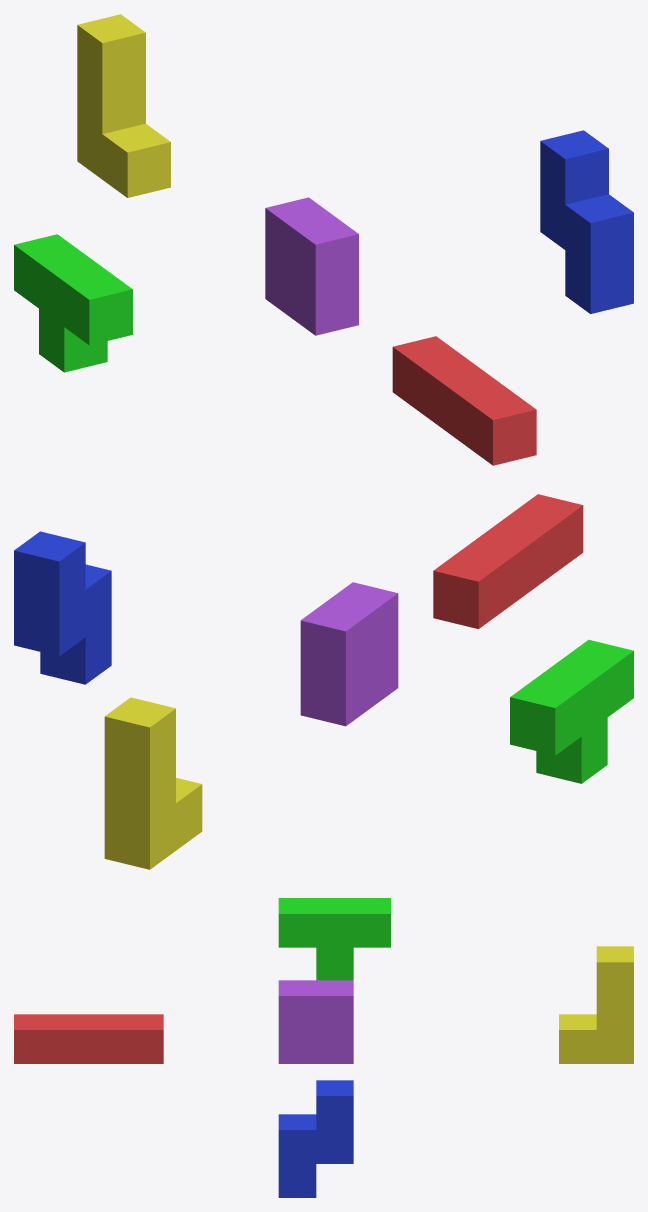
The model's file is shapes.glb.
The picture shows the model from 3 angles, top to bottom: view 1: azimuth 30°, elevation 25°; view 2: azimuth 150°, elevation 25°; view 3: azimuth 270°, elevation 25°; orthographic projection. The views are drawn at different scales.
Parts seen in each view (by area): view 1: LShape, stairs, TShape, bar, square; view 2: LShape, stairs, TShape, bar, square; view 3: bar, TShape, stairs, square, LShape.
Part boxes in pixels (box(x1,y1,x2,y2)): LShape: box(77, 14, 170, 197); stairs: box(540, 130, 633, 313); TShape: box(14, 234, 132, 372); bar: box(392, 336, 536, 465); square: box(265, 197, 358, 335); LShape: box(104, 697, 202, 869); stairs: box(14, 531, 111, 684); TShape: box(510, 639, 633, 783); bar: box(433, 494, 583, 628); square: box(300, 582, 398, 726); bar: box(14, 1014, 163, 1063); TShape: box(278, 898, 390, 980); stairs: box(278, 1080, 353, 1197); square: box(278, 980, 353, 1063); LShape: box(559, 946, 633, 1063).
Size of the model in its own units: 25.04 by 8 by 33.12.
